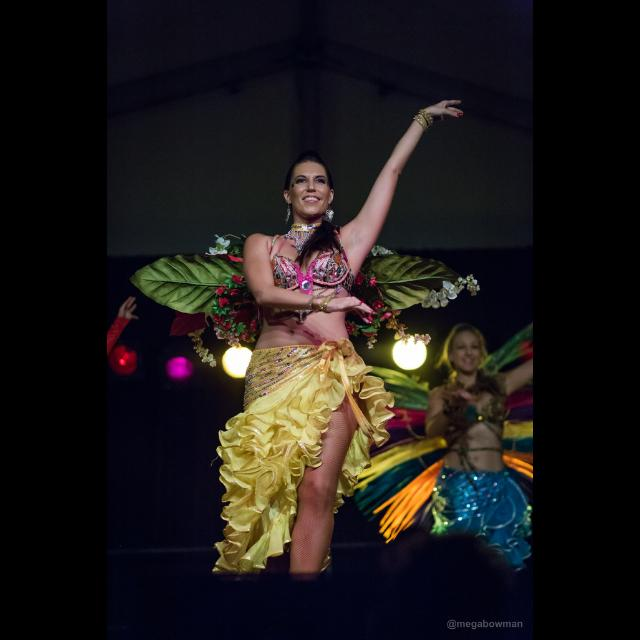Flower: (216, 308, 260, 342), (421, 292, 451, 312), (440, 281, 466, 303), (466, 274, 482, 296), (212, 234, 232, 248), (210, 284, 228, 298), (207, 246, 231, 256), (220, 294, 232, 308), (362, 312, 376, 324), (380, 311, 394, 323), (356, 272, 366, 286), (371, 301, 385, 311), (368, 276, 379, 288), (229, 256, 245, 264), (232, 274, 244, 284), (354, 322, 356, 333)
